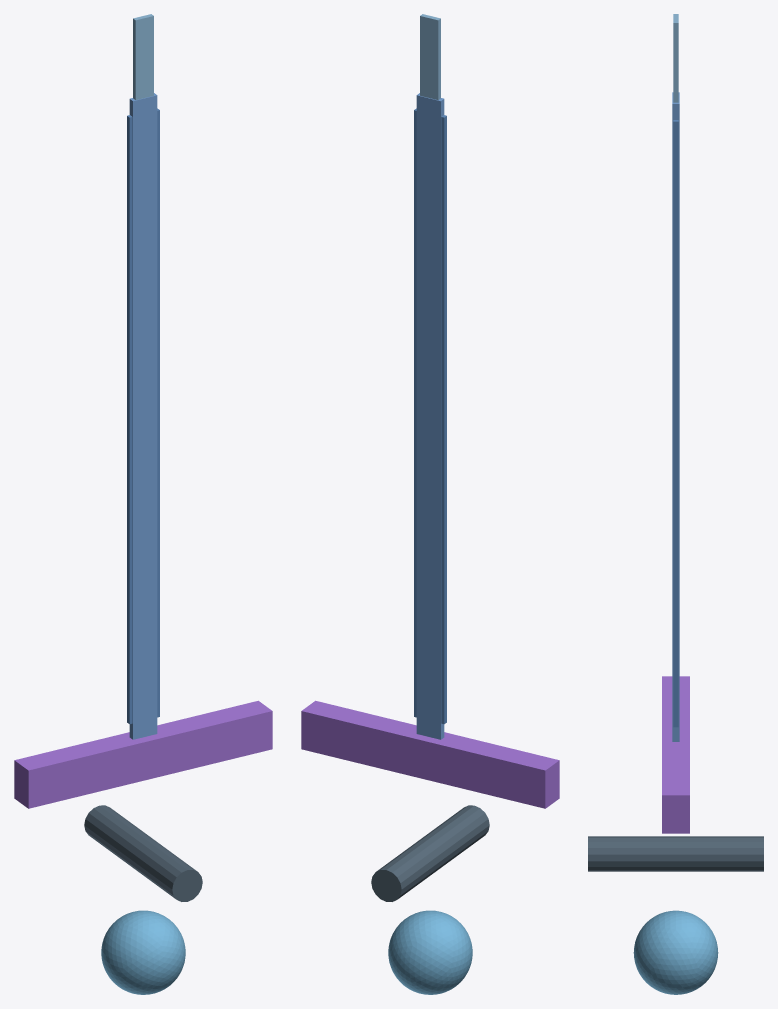
File: crystal_sword.glb
3 renders of one model, left to right at view 1: azimuth 30°, elevation 25°; view 2: azimuth 150°, elevation 25°; view 3: azimuth 270°, elevation 25°, orthographic.
Visible parts, largest first — view 1: blade, guard, pommel, handle, bevel_left, bevel_right, tip; view 2: blade, guard, pommel, handle, bevel_left, bevel_right, tip; view 3: handle, pommel, guard, bevel_right, blade, tip.
Boxes of the visible parts, left/top/right/bottom form: blade: left=129, top=93, right=157, bottom=739; guard: left=14, top=700, right=272, bottom=808; pommel: left=101, top=910, right=185, bottom=994; handle: left=84, top=805, right=202, bottom=901; bevel_left: left=127, top=115, right=132, bottom=724; bevel_right: left=157, top=108, right=159, bottom=717; tip: left=133, top=14, right=153, bottom=99; blade: left=416, top=93, right=444, bottom=739; guard: left=301, top=700, right=559, bottom=808; pommel: left=388, top=910, right=472, bottom=994; handle: left=371, top=805, right=489, bottom=901; bevel_left: left=441, top=115, right=446, bottom=724; bevel_right: left=414, top=108, right=416, bottom=717; tip: left=420, top=14, right=440, bottom=99; handle: left=588, top=836, right=763, bottom=871; pommel: left=633, top=910, right=718, bottom=994; guard: left=662, top=676, right=689, bottom=833; bevel_right: left=673, top=120, right=678, bottom=727; blade: left=672, top=92, right=679, bottom=741; tip: left=673, top=14, right=678, bottom=102.
Size of the model in its own units: 0.8 by 3.05 by 0.5.
